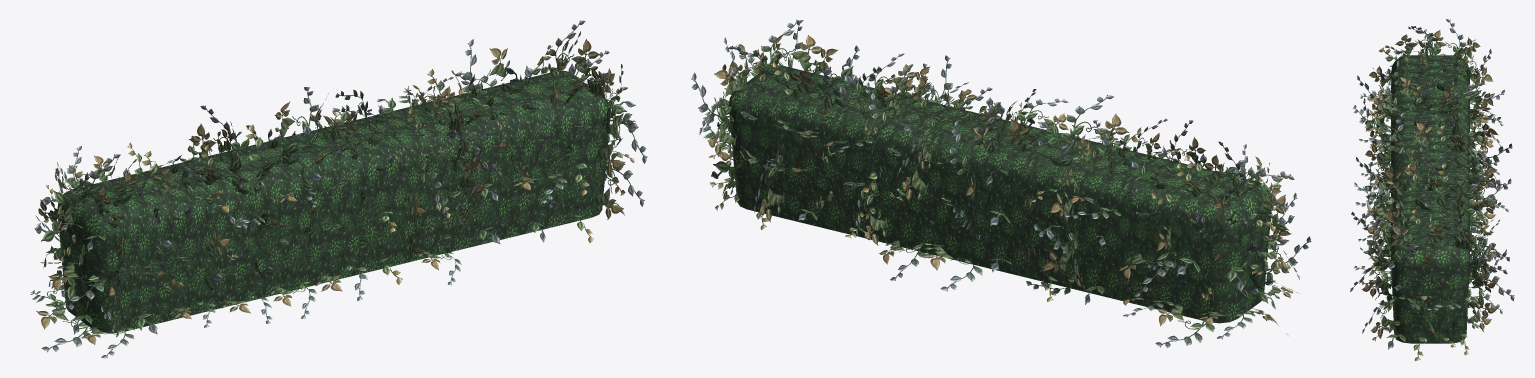
File: Hedge_XL.dae
The picture shows the model from 3 angles, left to right: view 1: azimuth 30°, elevation 25°; view 2: azimuth 150°, elevation 25°; view 3: azimuth 270°, elevation 25°; orthographic projection. The views are drawn at different scales.
Visible parts, largest first — view 1: Hedge_XL; view 2: Hedge_XL; view 3: Hedge_XL.
Boxes of the visible parts, bbox=[...] form: Hedge_XL: bbox=[30, 20, 647, 358]; Hedge_XL: bbox=[691, 19, 1311, 347]; Hedge_XL: bbox=[1350, 19, 1514, 360].
Size of what is drawn, in the model's own units: 1411 by 450 by 438.
